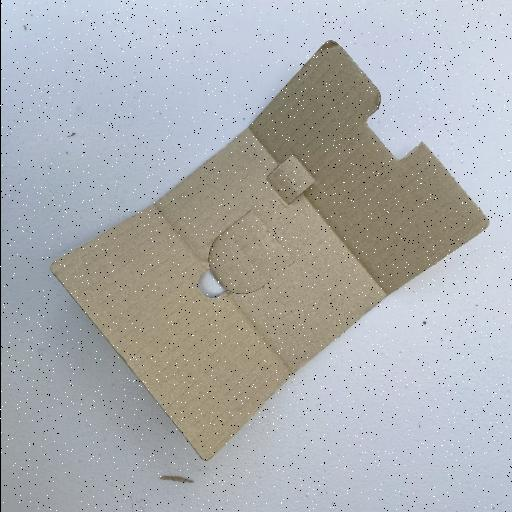Cardboard: (48, 38, 490, 463)
